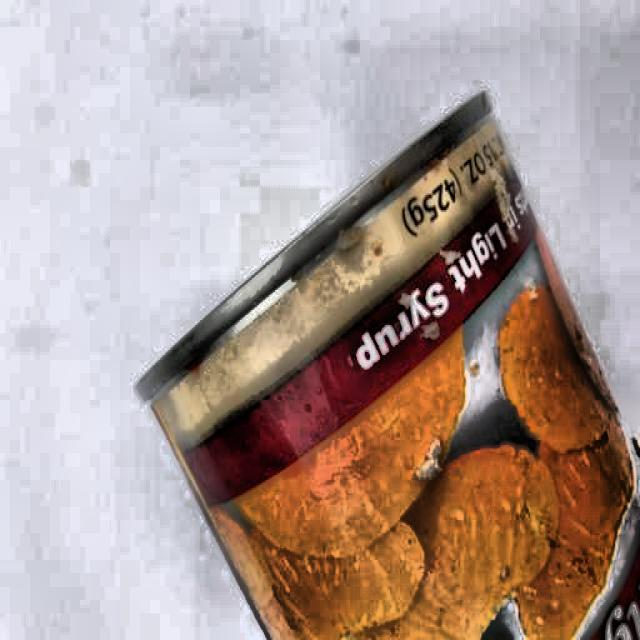metal: (130, 91, 640, 640)
